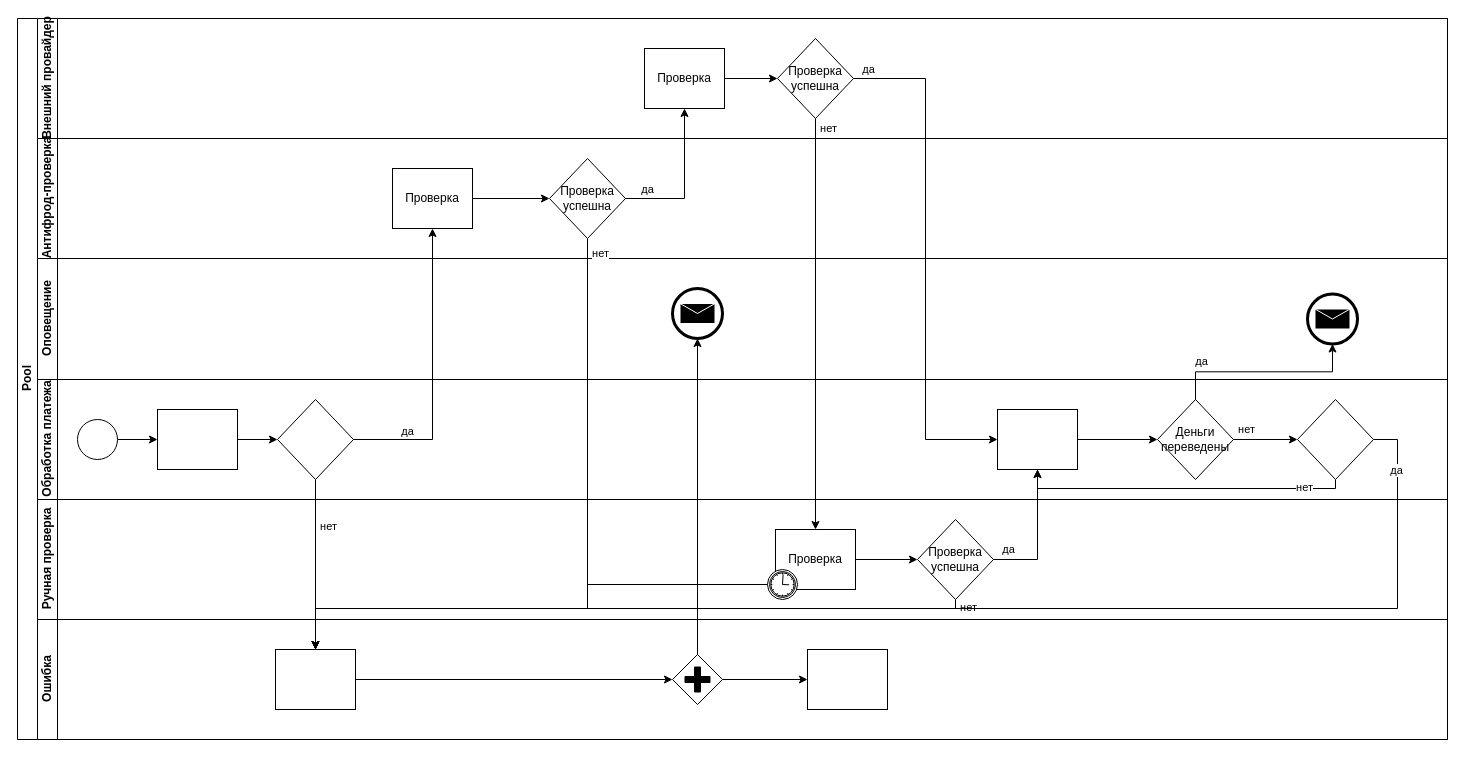
The diagram is 1465 pixels wide and 757 high, and some of its shapes have lost their labels. The centre of each missing label's shape, as x and y in pixels:
"20 мин" goes at [782,584].
"Было 3 попытки" goes at [1335,439].
"Возврат средств" goes at [315,679].
"Отката в БД (Redis/ PostgreSQL)" goes at [847,679].
"Перевод средств" goes at [1037,439].
"Списание денег" goes at [197,439].
"Списаны деньги" goes at [315,439].
